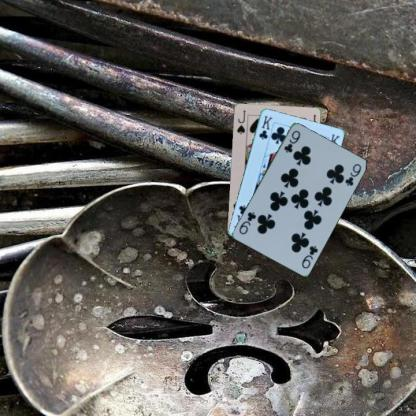9c: (299, 242, 319, 270), (282, 128, 302, 154)
Js: (234, 108, 247, 135)
Kc: (256, 113, 274, 140)
